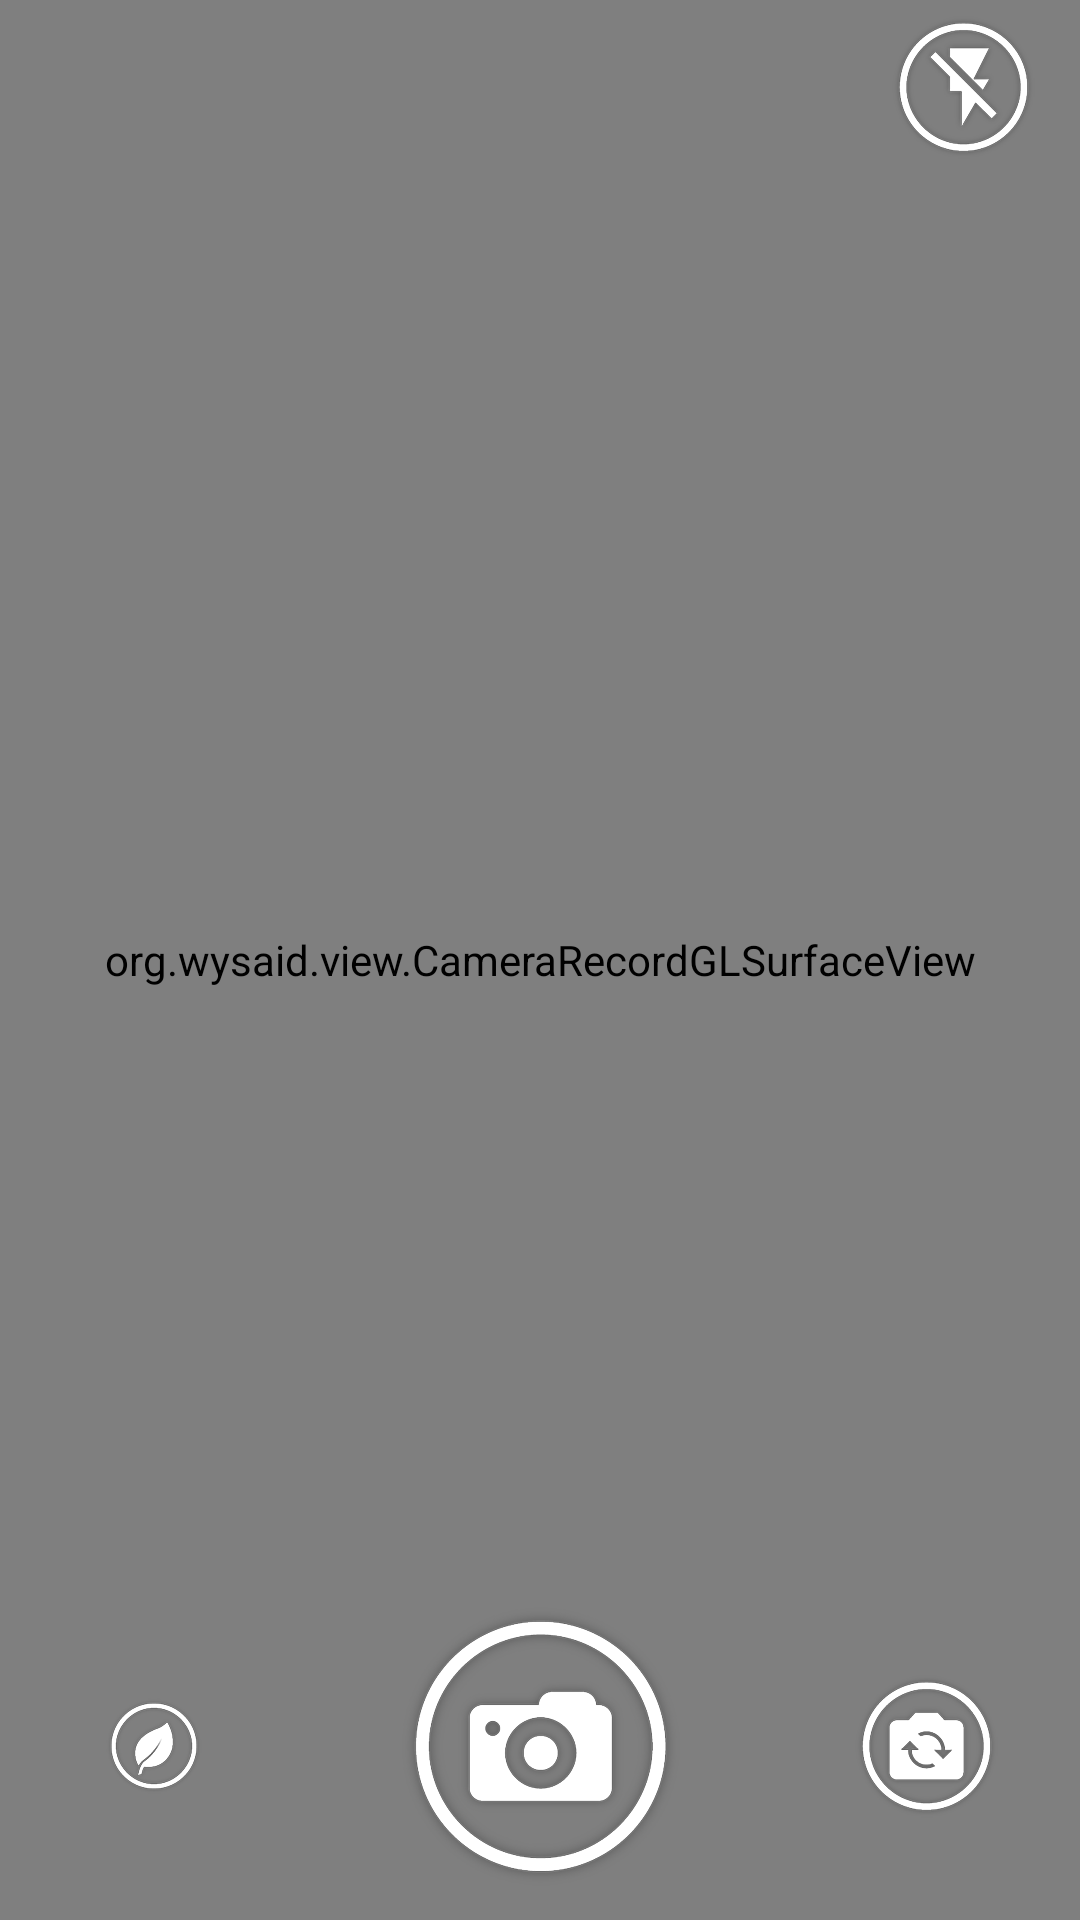

Where to tap for icons on this 1080px x 1920px app screen, as (x,y):
beauty: (154,1746)
camera flash off: (963,87)
camera switch: (926,1746)
capture: (541,1746)
